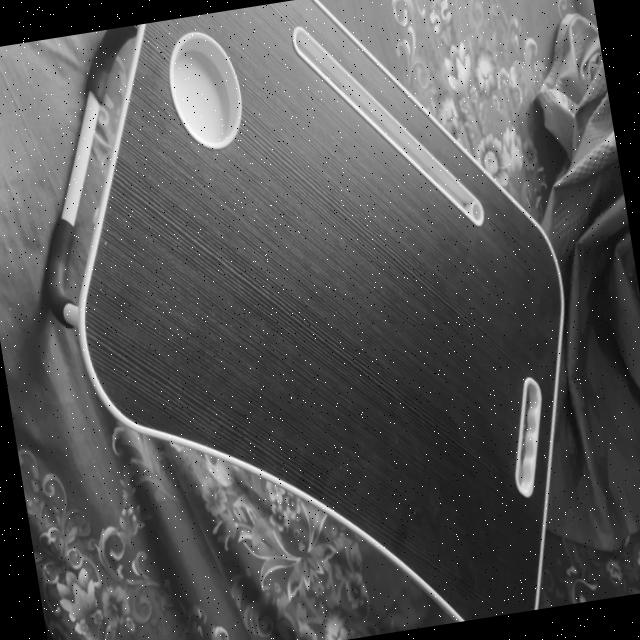table: (2, 0, 623, 640)
